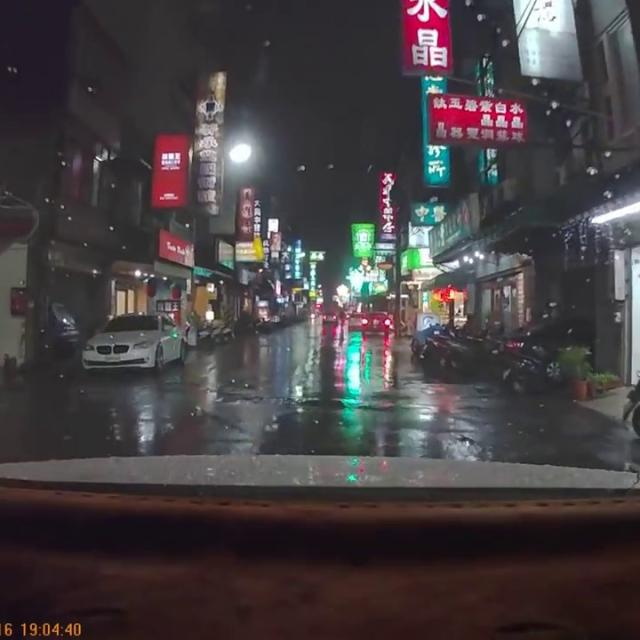Car: (78, 310, 184, 373), (358, 311, 390, 334), (346, 313, 365, 331), (321, 311, 339, 324)
